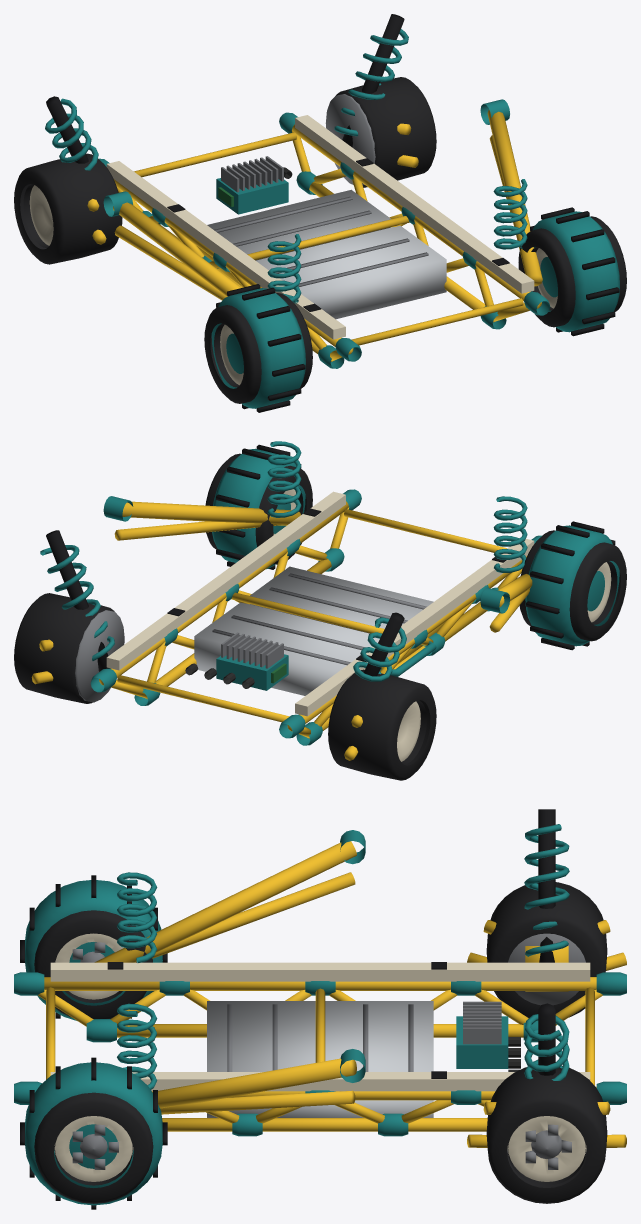
Rendered from solana_m10.glb.
3 views of the same model, one above another, from view 1: azimuth 30°, elevation 25°; view 2: azimuth 150°, elevation 25°; view 3: azimuth 270°, elevation 25° (orthographic). The views are drawn at different scales.
Parts seen in each view (by area): view 1: cassette, wheel_FL, wheel_BL_motor, wheel_BR_motor, truss_R, corner_BL, wheel_FR, mount_rail_R, mount_rail_L, corner_FR, wheel_BL, corner_BR (+7 smaller); view 2: cassette, wheel_FL, wheel_BL_motor, corner_BR, wheel_FR, truss_R, mount_rail_R, corner_FR, wheel_BR_motor, wheel_BL, mount_rail_L, truss_L (+7 smaller); view 3: cassette, wheel_FR, truss_L, mount_rail_L, corner_BL, wheel_BR, truss_R, corner_BR, wheel_BR_motor, wheel_FL, corner_FL, wheel_BL (+7 smaller).
Boxes of the visible parts, box(x1,y1,x2,y2) form: cassette: box(197, 189, 446, 319); wheel_FL: box(14, 153, 122, 264); wheel_BL_motor: box(211, 284, 305, 412); wheel_BR_motor: box(530, 207, 619, 336); truss_R: box(279, 112, 550, 329); corner_BL: box(103, 191, 301, 303); wheel_FR: box(336, 77, 436, 187); mount_rail_R: box(295, 115, 534, 293); mount_rail_L: box(106, 161, 345, 339); corner_FR: box(325, 14, 418, 184); wheel_BL: box(204, 293, 312, 403); corner_BR: box(480, 99, 542, 286); cassette: box(194, 566, 444, 695); wheel_FL: box(328, 669, 436, 780); wheel_BL_motor: box(525, 521, 619, 650); corner_BR: box(103, 441, 301, 540); wheel_FR: box(14, 593, 114, 703); truss_R: box(90, 489, 361, 705); mount_rail_R: box(106, 491, 345, 670); corner_FR: box(31, 530, 124, 702); wheel_BR_motor: box(212, 444, 305, 569); wheel_BL: box(519, 530, 626, 641); mount_rail_L: box(295, 538, 534, 716); truss_L: box(279, 535, 542, 745); cassette: box(207, 1001, 433, 1117); wheel_FR: box(486, 1065, 607, 1203); truss_L: box(14, 972, 626, 1042); mount_rail_L: box(50, 962, 590, 981); corner_BL: box(94, 830, 365, 962); wheel_BR: box(34, 1092, 153, 1203); truss_R: box(14, 1081, 626, 1136); corner_BR: box(117, 1003, 365, 1114); wheel_BR_motor: box(20, 1057, 167, 1209); wheel_FL: box(486, 882, 607, 1017); corner_FL: box(467, 809, 626, 1005); wheel_BL: box(34, 910, 152, 1018).
Size of the model in its own units: 1.26 by 0.5192 by 1.42.
